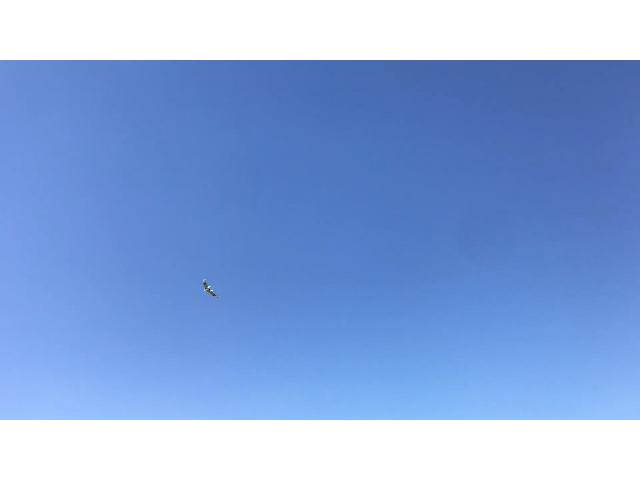Anti-Drone: (192, 266, 225, 308)
